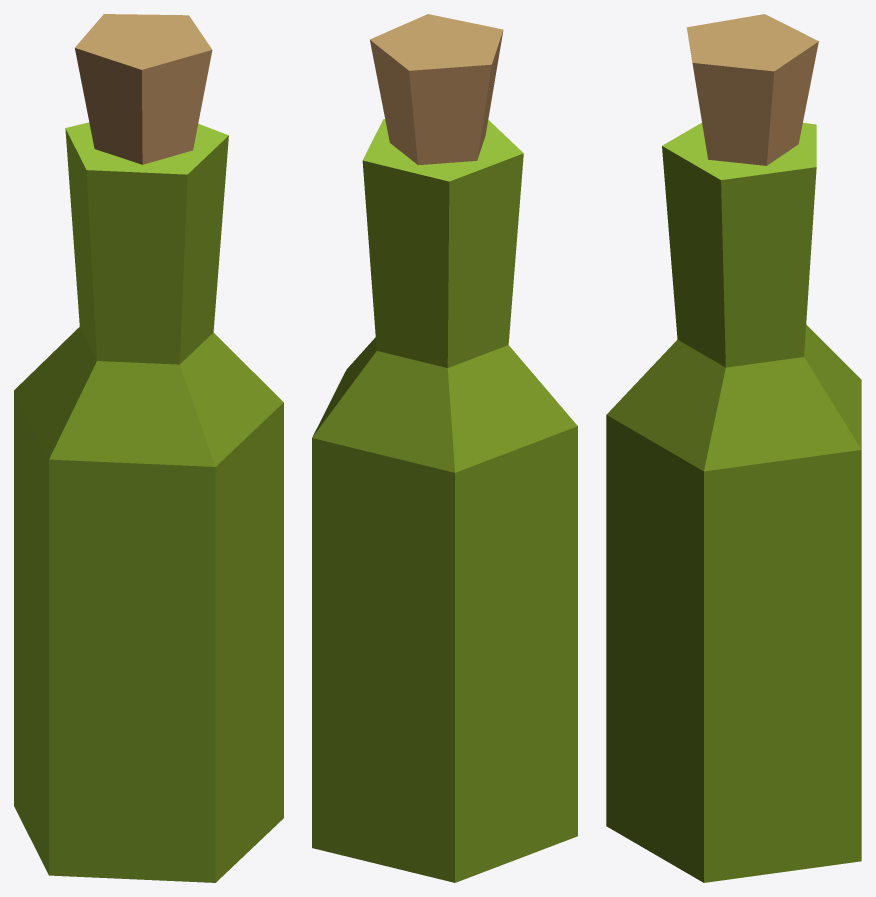
The model's file is TB_Prop_Bottle_D.FBX.
3 views of the same model, side by side, from view 1: azimuth 30°, elevation 25°; view 2: azimuth 150°, elevation 25°; view 3: azimuth 270°, elevation 25° (orthographic).
Visible parts, largest first — view 1: TB_Prop_Bottle_D; view 2: TB_Prop_Bottle_D; view 3: TB_Prop_Bottle_D.
Part boxes in pixels (box(x1,y1,x2,y2)): TB_Prop_Bottle_D: box(14, 14, 283, 882); TB_Prop_Bottle_D: box(312, 14, 577, 882); TB_Prop_Bottle_D: box(606, 14, 861, 882).
Size of the model in its own units: 0.2856 by 0.9197 by 0.2716.
